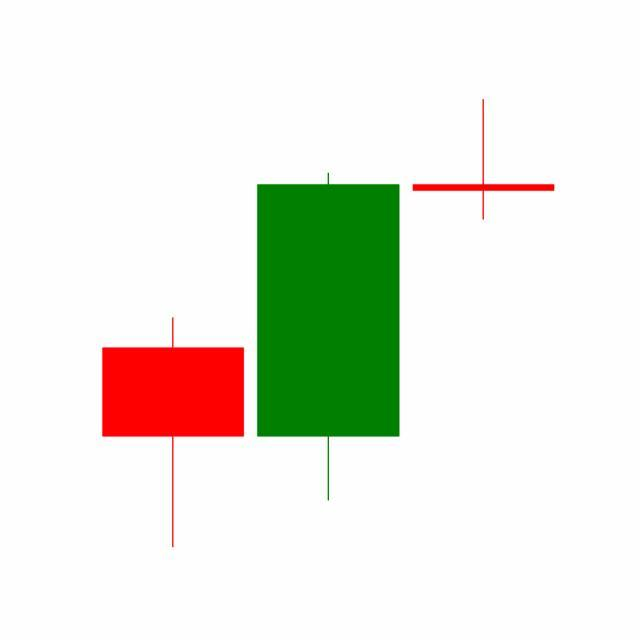Spinning Top: (406, 99, 562, 223)
